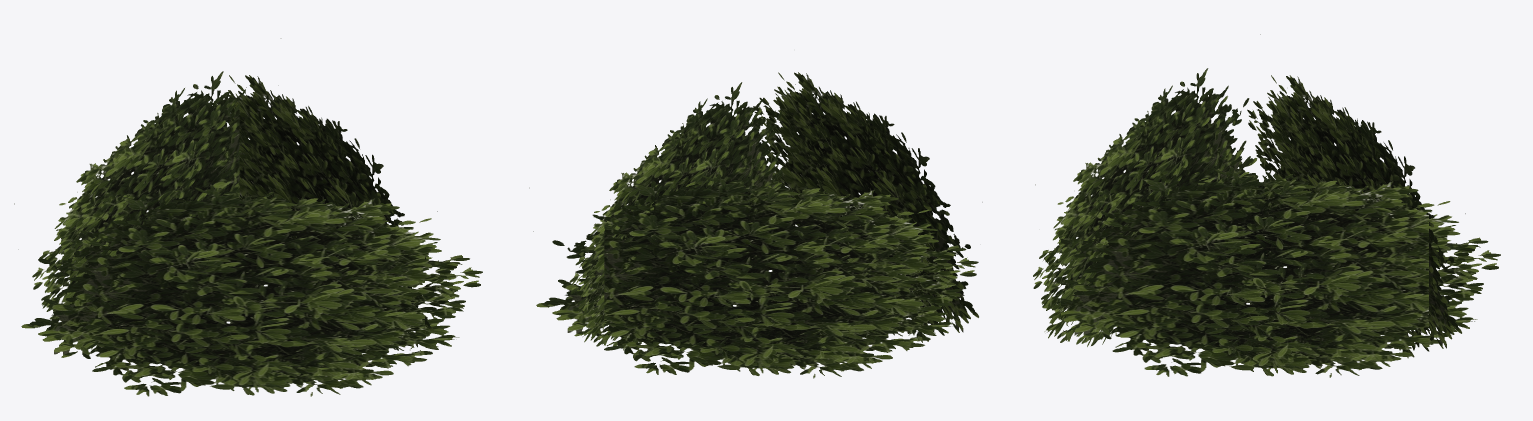
File: bosh.fbx
The picture shows the model from 3 angles, left to right: view 1: azimuth 30°, elevation 25°; view 2: azimuth 150°, elevation 25°; view 3: azimuth 270°, elevation 25°; orthographic projection. The views are drawn at different scales.
Visible parts, largest first — view 1: pPlane4; view 2: pPlane4; view 3: pPlane4.
Boxes of the visible parts, x1=… form: pPlane4: x1=14, y1=38, x2=482, y2=396; pPlane4: x1=529, y1=72, x2=982, y2=378; pPlane4: x1=1033, y1=34, x2=1500, y2=377.
Size of the model in its own units: 9.17 by 5.02 by 10.61.
1 material, 1 textured.
